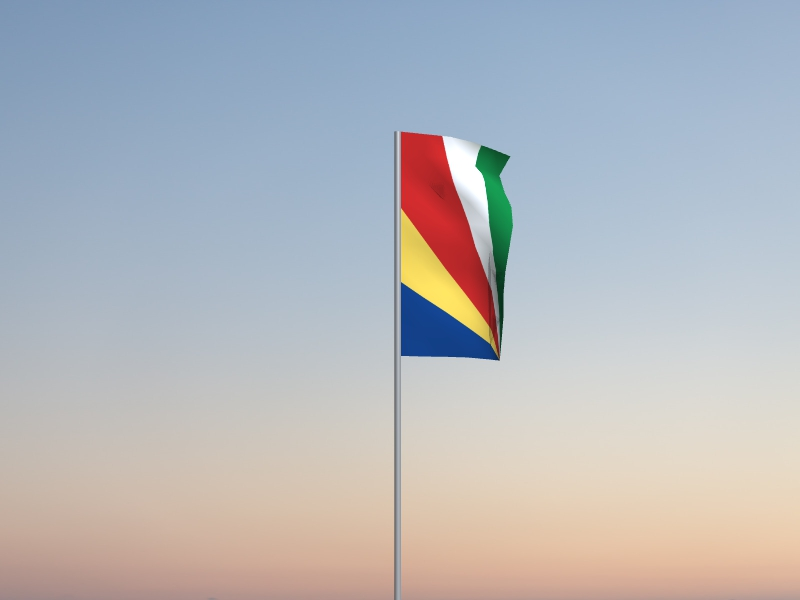sc: (401, 133, 515, 362)
